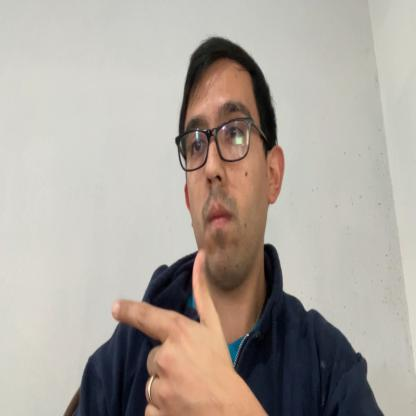G: (111, 250, 228, 415)
